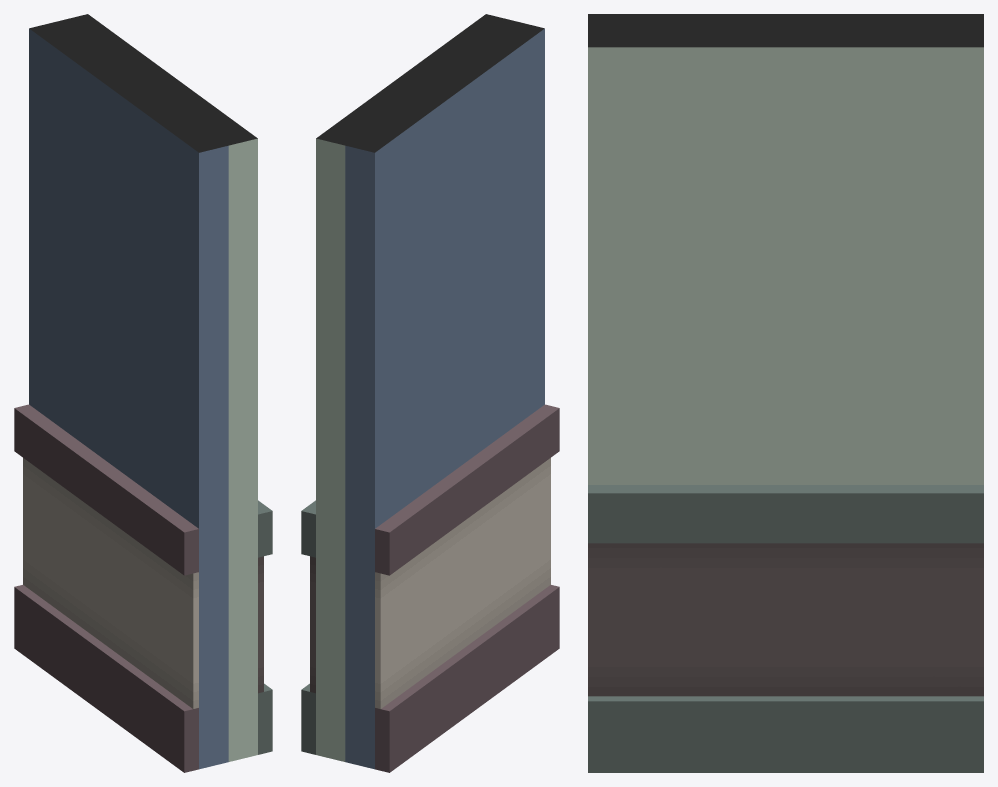
Rendered from wall_inside.glb.
3 renders of one model, left to right at view 1: azimuth 30°, elevation 25°; view 2: azimuth 150°, elevation 25°; view 3: azimuth 270°, elevation 25°, orthographic. The views are drawn at different scales.
Parts seen in each view (by area): view 1: mesh_doublewall_straight_mat_wall_inside_2_0; view 2: mesh_doublewall_straight_mat_wall_inside_2_0; view 3: mesh_doublewall_straight_mat_wall_inside_2_0.
Boxes of the visible parts, bbox=[...] form: mesh_doublewall_straight_mat_wall_inside_2_0: bbox=[14, 14, 272, 772]; mesh_doublewall_straight_mat_wall_inside_2_0: bbox=[301, 14, 559, 772]; mesh_doublewall_straight_mat_wall_inside_2_0: bbox=[588, 14, 983, 772].
Bounding box in the file's own units: 30 × 200 × 100.
2 materials, 2 textured.
